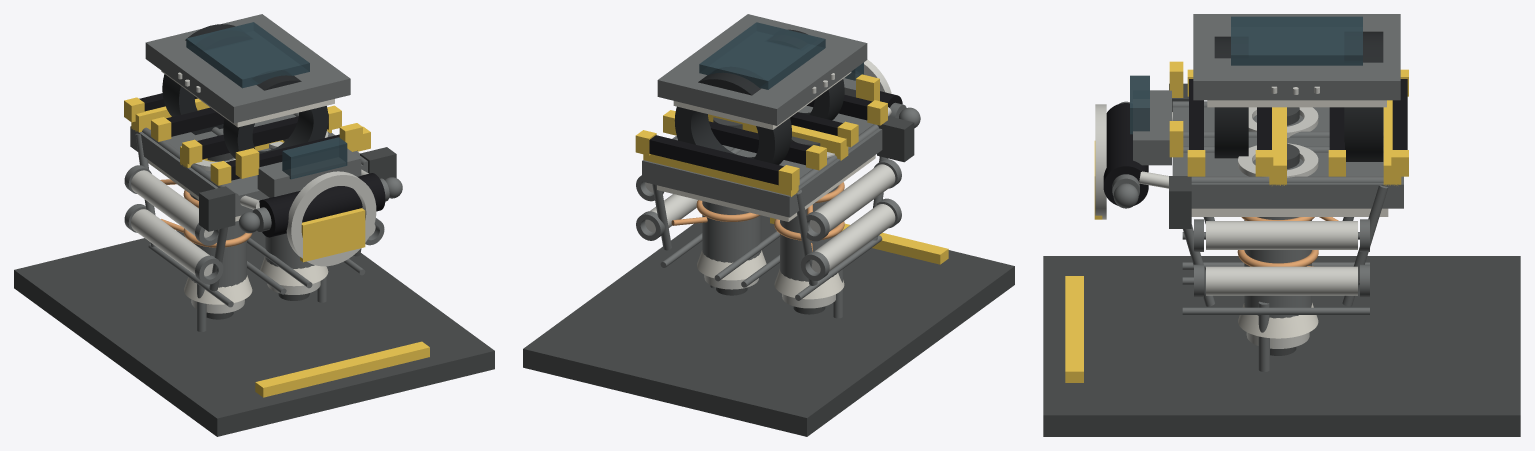
File: hand_jet_thruster_concept_assembly.glb
The picture shows the model from 3 angles, left to right: view 1: azimuth 30°, elevation 25°; view 2: azimuth 150°, elevation 25°; view 3: azimuth 270°, elevation 25°; orthographic projection. The views are drawn at different scales.
Parts seen in each view (by area): view 1: =>[0:1:1:5], =>[0:1:1:18], =>[0:1:1:22], =>[0:1:1:57], =>[0:1:1:7], =>[0:1:1:140], =>[0:1:1:132], =>[0:1:1:16], =>[0:1:1:138], =>[0:1:1:136], =>[0:1:1:153], =>[0:1:1:159] (+20 smaller); view 2: =>[0:1:1:5], =>[0:1:1:18], =>[0:1:1:57], =>[0:1:1:22], =>[0:1:1:14], =>[0:1:1:42], =>[0:1:1:95], =>[0:1:1:159], =>[0:1:1:153], =>[0:1:1:61], =>[0:1:1:169], =>[0:1:1:36] (+22 smaller); view 3: =>[0:1:1:5], =>[0:1:1:18], =>[0:1:1:57], =>[0:1:1:22], =>[0:1:1:171], =>[0:1:1:177], =>[0:1:1:14], =>[0:1:1:136], =>[0:1:1:16], =>[0:1:1:132], =>[0:1:1:7], =>[0:1:1:95] (+29 smaller).
Boxes of the visible parts, <box> form: =>[0:1:1:5]: <box>14,230,494,436</box>; =>[0:1:1:18]: <box>145,14,350,123</box>; =>[0:1:1:22]: <box>186,22,309,88</box>; =>[0:1:1:57]: <box>130,114,367,216</box>; =>[0:1:1:7]: <box>255,341,429,397</box>; =>[0:1:1:140]: <box>286,171,376,266</box>; =>[0:1:1:132]: <box>259,173,385,237</box>; =>[0:1:1:16]: <box>223,70,328,158</box>; =>[0:1:1:138]: <box>300,208,365,262</box>; =>[0:1:1:136]: <box>257,148,361,197</box>; =>[0:1:1:153]: <box>131,209,213,276</box>; =>[0:1:1:159]: <box>131,170,213,237</box>; =>[0:1:1:5]: <box>523,215,1014,436</box>; =>[0:1:1:18]: <box>657,14,867,125</box>; =>[0:1:1:57]: <box>642,105,882,217</box>; =>[0:1:1:22]: <box>699,22,825,89</box>; =>[0:1:1:14]: <box>674,67,791,164</box>; =>[0:1:1:42]: <box>649,135,783,185</box>; =>[0:1:1:95]: <box>702,201,761,262</box>; =>[0:1:1:159]: <box>810,164,895,233</box>; =>[0:1:1:153]: <box>811,204,895,272</box>; =>[0:1:1:61]: <box>780,185,838,281</box>; =>[0:1:1:169]: <box>877,116,914,162</box>; =>[0:1:1:36]: <box>709,121,810,165</box>; =>[0:1:1:5]: <box>1043,256,1520,436</box>; =>[0:1:1:18]: <box>1193,14,1400,100</box>; =>[0:1:1:57]: <box>1172,107,1403,208</box>; =>[0:1:1:22]: <box>1231,16,1362,65</box>; =>[0:1:1:171]: <box>1206,266,1357,295</box>; =>[0:1:1:177]: <box>1206,221,1357,249</box>; =>[0:1:1:14]: <box>1344,31,1383,161</box>; =>[0:1:1:136]: <box>1133,90,1171,165</box>; =>[0:1:1:16]: <box>1214,36,1248,158</box>; =>[0:1:1:132]: <box>1103,103,1148,205</box>; =>[0:1:1:7]: <box>1065,276,1083,382</box>; =>[0:1:1:95]: <box>1244,217,1311,318</box>.
Size of the model in its own units: 0.6 by 0.564 by 0.76.
